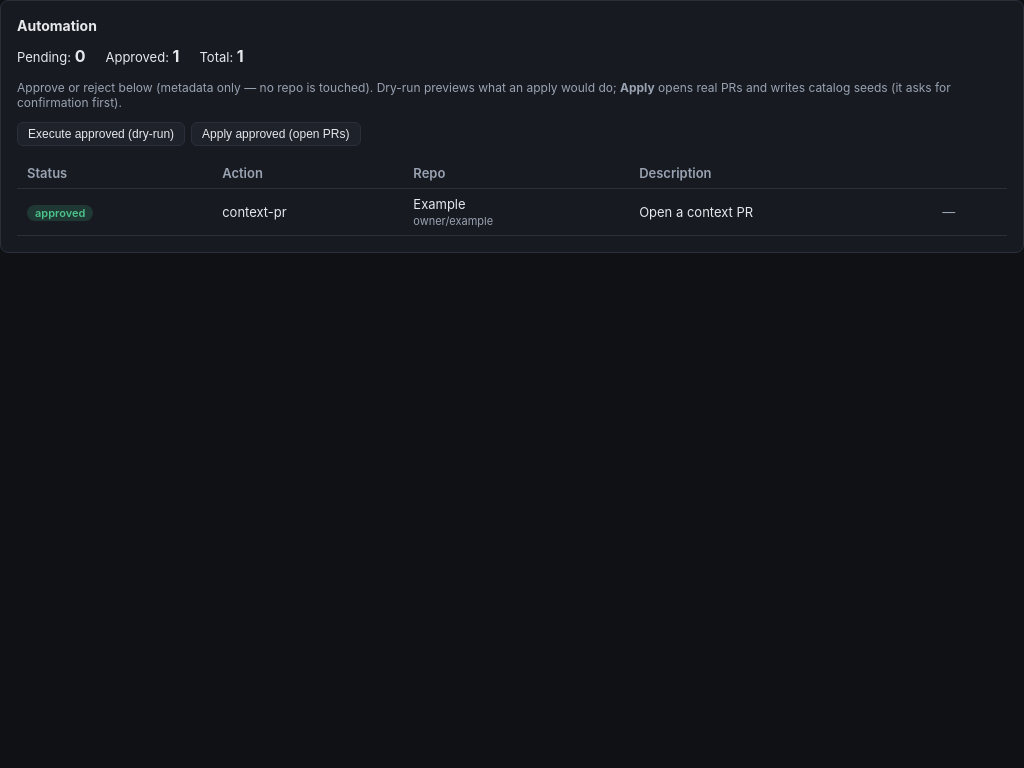
Test: Automation — apply confirmation gate › cancelling the modal closes it without executing
Click the button "Apply approved (open PRs)". click: (276,134)
box: [191,122,360,146]
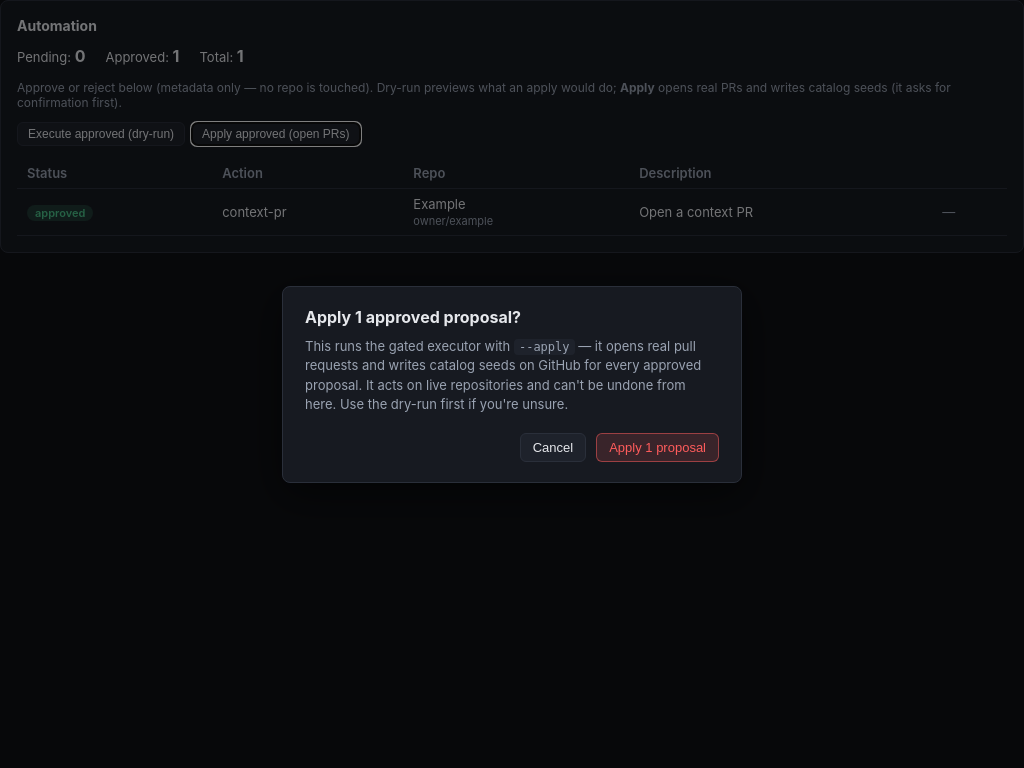
Click the button "Cancel". click: (553,447)
box: [520,432,586,462]
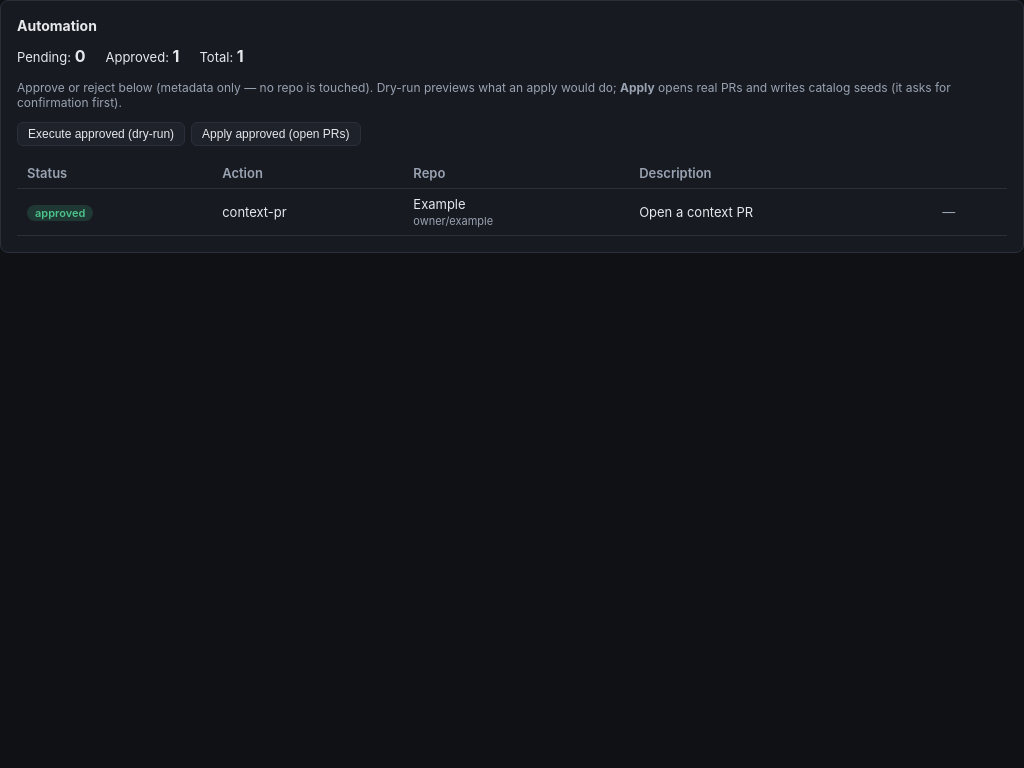
Now the dialog is gone
